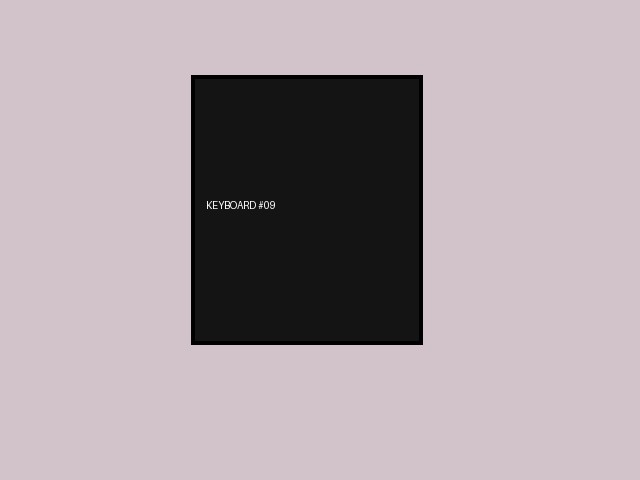keyboard: (191, 75, 422, 344)
